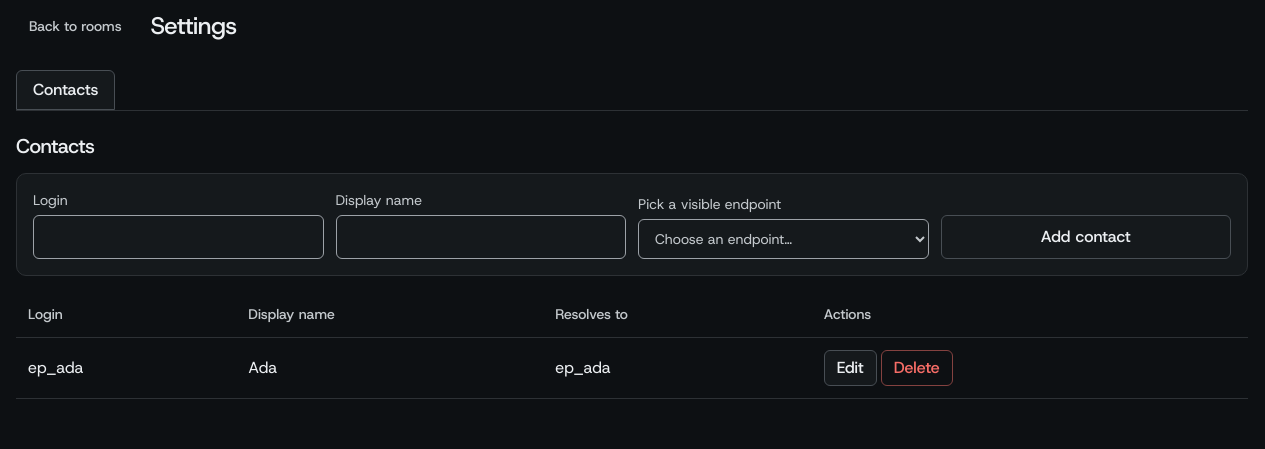
SettingsPage contacts › shows a 409 add error inline
This screenshot has width=1265, height=449.
Expected: the row "ep_ada Ada ep_ada Edit Delete" is shown, x1=16 y1=338 x2=1248 y2=398
What coordinates should you click on to do the following:
click the button "Add contact"
I would click on:
 (1086, 237)
Its box is x1=940 y1=215 x2=1231 y2=259.
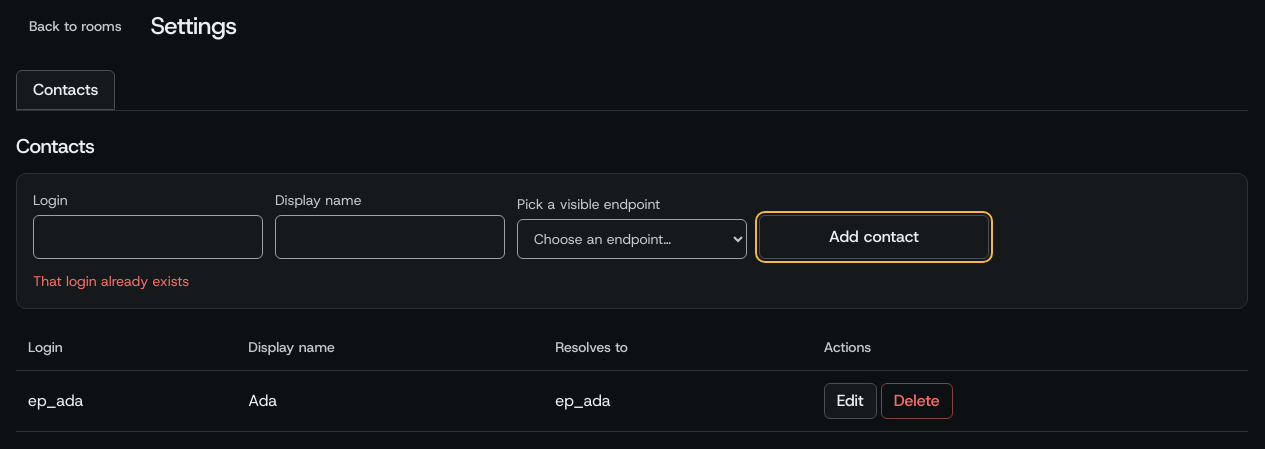
Result: the message reads "That login already exists" at x1=33 y1=272 x2=189 y2=290
